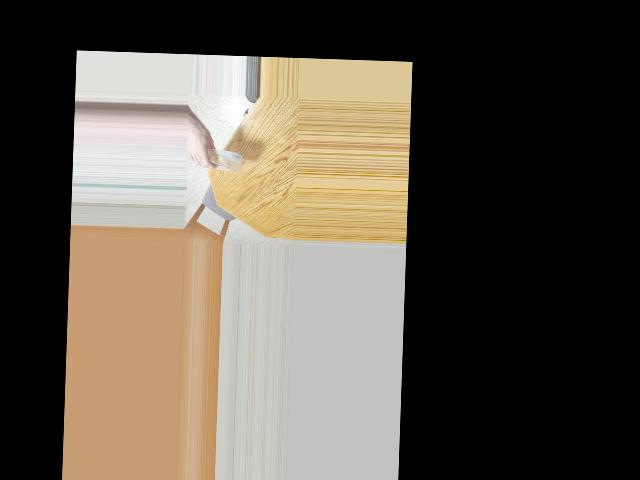cheese: (196, 131, 244, 180)
